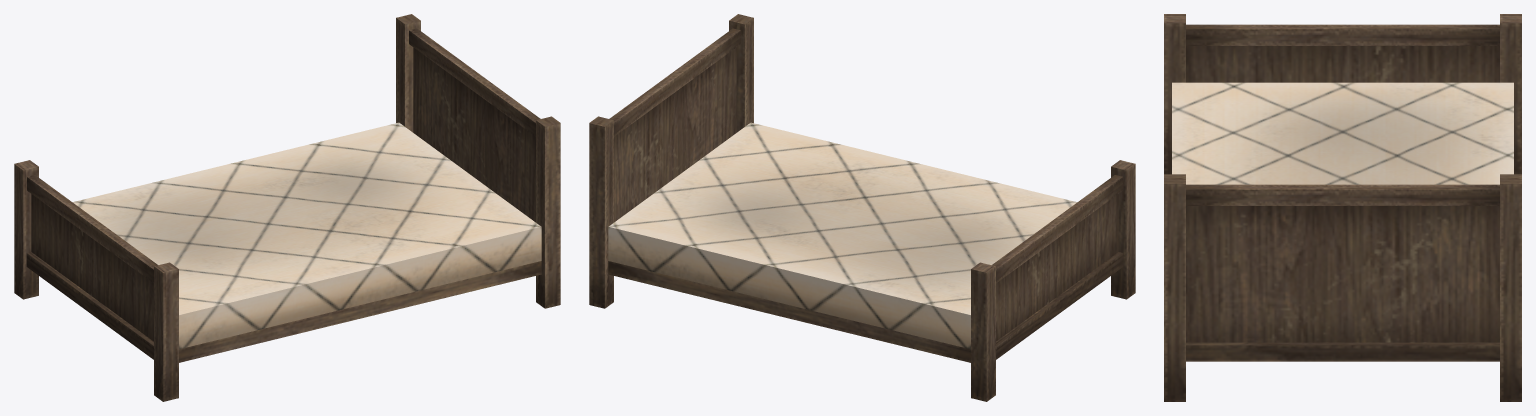
Rendered from Bed.New_2.fbx.
The picture shows the model from 3 angles, left to right: view 1: azimuth 30°, elevation 25°; view 2: azimuth 150°, elevation 25°; view 3: azimuth 270°, elevation 25°; orthographic projection. The views are drawn at different scales.
Visible parts, largest first — view 1: Bed_2; view 2: Bed_2; view 3: Bed_2.
Boxes of the visible parts, x1,y1,x2,y2 form: Bed_2: (14,14,560,401); Bed_2: (589,14,1135,401); Bed_2: (1164,14,1521,401).
Bounding box in the file's own units: 218 × 95.13 × 141.
